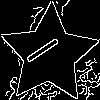I: (24, 29, 69, 66)
